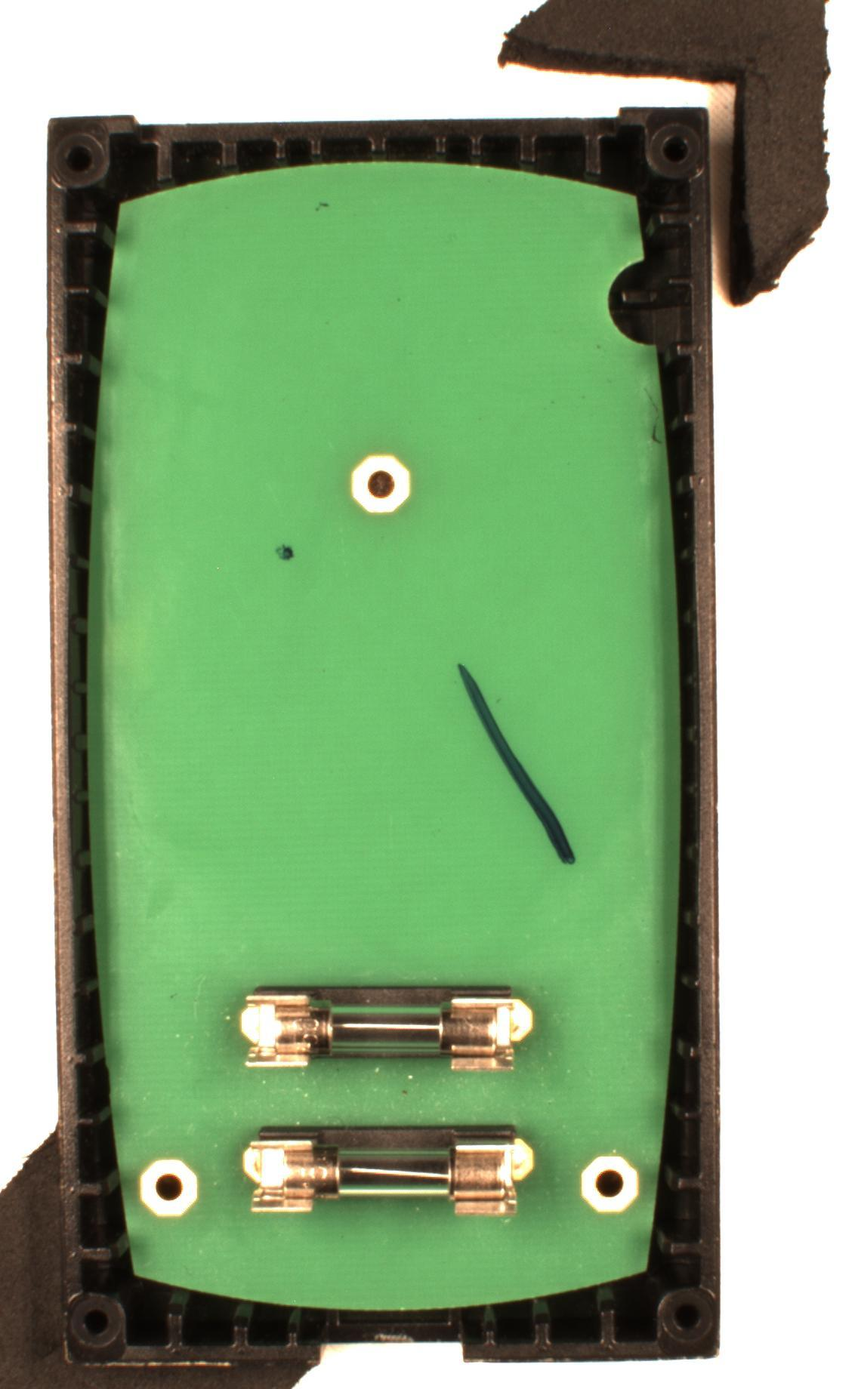Linijsko Ostecene: (454, 659, 583, 871)
Tockasto Ostecenje: (273, 541, 297, 564)
